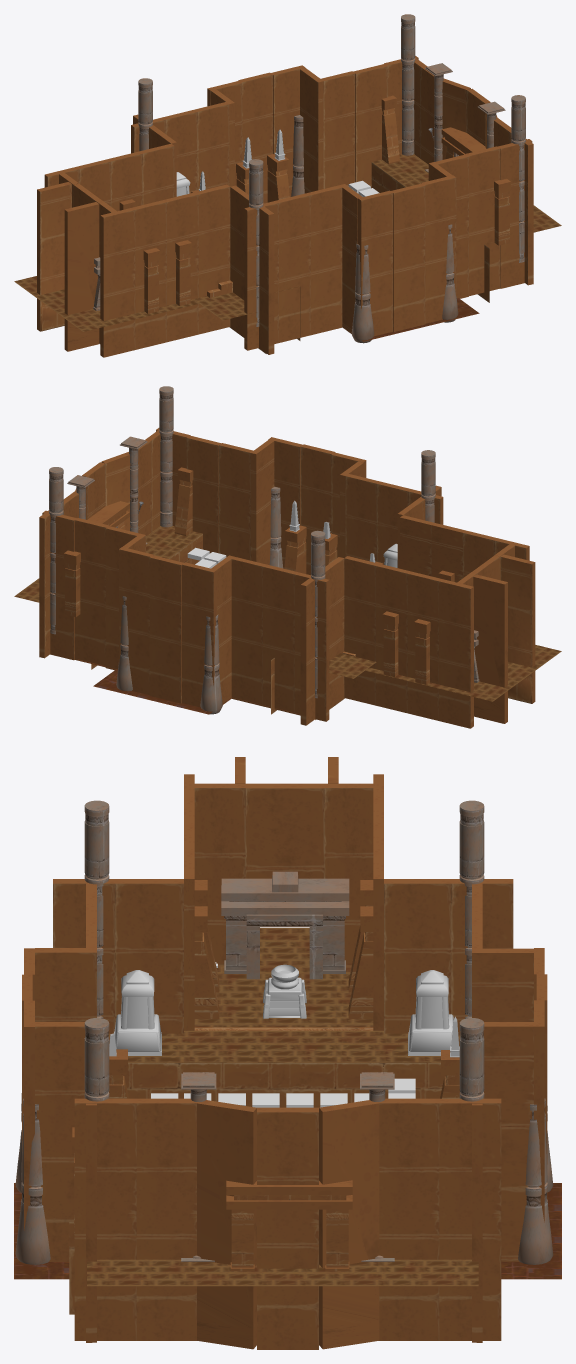
3 views of the same model, one above another, from view 1: azimuth 30°, elevation 25°; view 2: azimuth 150°, elevation 25°; view 3: azimuth 270°, elevation 25° (orthographic). The views are drawn at different scales.
Parts seen in each view (by area): view 1: stage5_042, stage5_255, stage5_081, stage5_235, stage5_239, stage5_236, stage5_076, stage5_245, stage5_233, stage5_068, stage5_028, stage5_240 (+45 smaller); view 2: stage5_042, stage5_254, stage5_230, stage5_064, stage5_242, stage5_069, stage5_030, stage5_073, stage5_231, stage5_032, stage5_241, stage5_077 (+45 smaller); view 3: stage5_036, stage5_005, stage5_009, stage5_007, stage5_051, stage5_060, stage5_006, stage5_008, stage5_022, stage5_234, stage5_000, stage5_001 (+46 smaller).
Part boxes in pixels (box(x1,y1,x2,y2)): stage5_042: box(37, 182, 99, 351); stage5_255: box(100, 208, 135, 357); stage5_081: box(308, 185, 342, 335); stage5_235: box(391, 183, 425, 331); stage5_239: box(276, 193, 310, 342); stage5_236: box(358, 190, 392, 336); stage5_076: box(465, 146, 500, 295); stage5_245: box(195, 184, 230, 334); stage5_233: box(421, 175, 456, 323); stage5_068: box(321, 71, 355, 188); stage5_028: box(132, 200, 166, 349); stage5_240: box(164, 192, 198, 342); stage5_042: box(473, 554, 535, 723); stage5_254: box(439, 579, 473, 728); stage5_230: box(149, 555, 183, 703); stage5_064: box(231, 557, 265, 706); stage5_242: box(263, 564, 297, 713); stage5_069: box(74, 518, 109, 667); stage5_030: box(344, 556, 378, 705); stage5_073: box(182, 562, 216, 707); stage5_231: box(119, 547, 153, 694); stage5_032: box(407, 571, 441, 720); stage5_241: box(376, 563, 409, 713); stage5_077: box(219, 443, 253, 560); stage5_036: box(194, 783, 373, 963); stage5_005: box(377, 1098, 439, 1340); stage5_009: box(136, 1098, 198, 1340); stage5_007: box(257, 1107, 318, 1349); stage5_051: box(439, 1098, 501, 1340); stage5_060: box(74, 1098, 136, 1340); stage5_006: box(319, 1100, 379, 1349); stage5_008: box(197, 1100, 256, 1349); stage5_022: box(87, 1259, 478, 1286); stage5_234: box(35, 1022, 85, 1261); stage5_000: box(115, 879, 183, 1033); stage5_001: box(384, 879, 451, 1033).
Bounding box in the file's own units: 5805 × 2310 × 3559.
